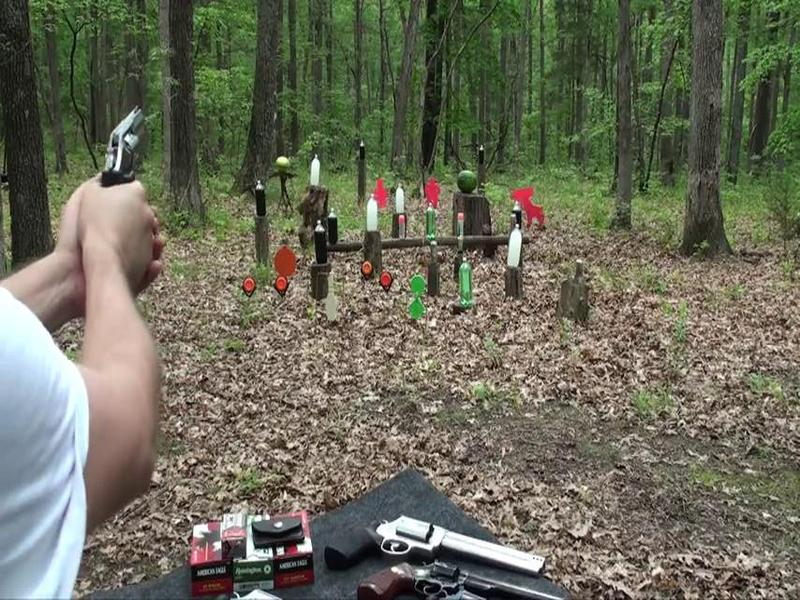Revolver: (74, 86, 166, 207)
